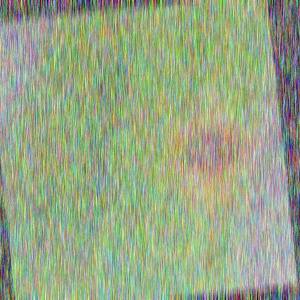Bacterial_Leaf_Blight: (159, 114, 261, 186), (101, 18, 139, 35), (28, 146, 59, 165), (119, 110, 153, 127)
